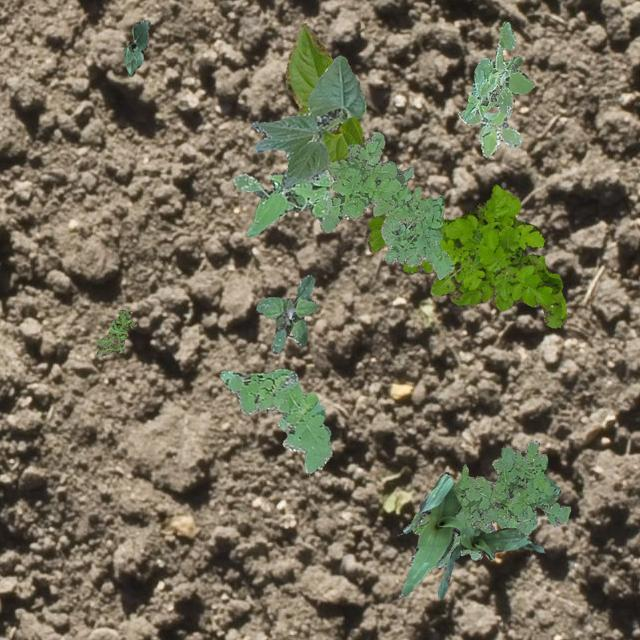crop: (252, 54, 364, 188), (284, 22, 364, 162), (399, 472, 462, 596), (437, 526, 543, 598), (122, 20, 148, 76)
weed: (364, 184, 566, 326), (412, 438, 570, 566), (320, 130, 452, 278), (218, 368, 330, 472), (462, 20, 534, 120), (232, 168, 334, 236), (256, 274, 316, 354), (456, 108, 520, 156), (96, 308, 136, 354)
